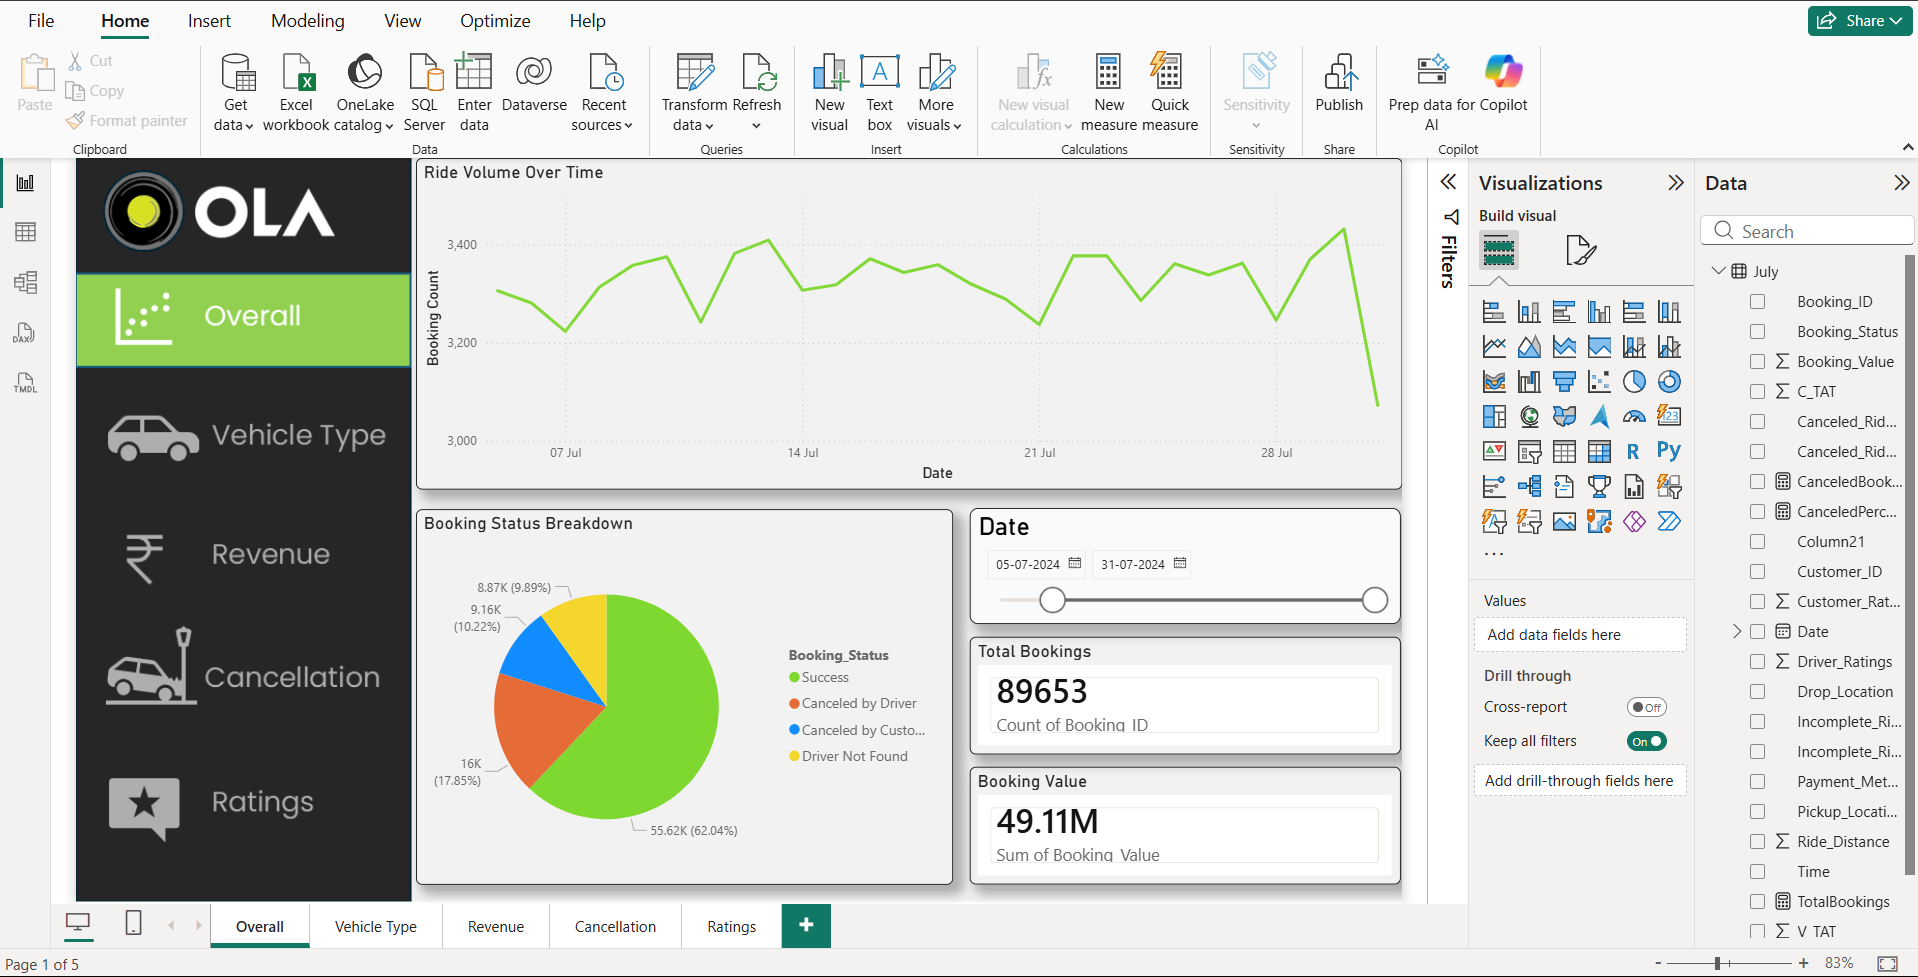

The dashboard page shown, as its layout file describes it:
{"tool":"powerbi","page":{"name":"Overall","canvas":[1280,720],"ordinal":0},"visuals":[{"type":"actionButton","box":[0,225.6,328.2,92.9],"z":0},{"type":"actionButton","box":[0,337.8,328.2,85.7],"z":1000},{"type":"actionButton","box":[0,444,328.2,94.1],"z":2000},{"type":"actionButton","box":[0,581.5,319.7,79.6],"z":3000},{"type":"actionButton","box":[0,114.6,328.2,83.2],"z":4000},{"type":"lineChart","title":"Ride Volume Over Time","fields":{"Y":["CountNonNull(July.Booking_ID)"],"Category":["July.Date"]},"box":[328,0,952.3,319.7],"z":5000},{"type":"pieChart","title":"Booking Status Breakdown","fields":{"Category":["July.Booking_Status"],"Y":["CountNonNull(July.Booking_Status)"]},"box":[328,338.9,518.7,362.3],"z":6000},{"type":"slicer","title":"Date","fields":{"Values":["July.Date"]},"box":[862.6,337.8,416.2,112.2],"z":7000},{"type":"cardVisual","title":"Total Bookings","fields":{"Data":["Count(July.Booking_ID)"]},"box":[863.1,462.4,415.8,113.9],"z":8000},{"type":"cardVisual","title":"Booking Value","fields":{"Data":["Sum(July.Booking_Value)"]},"box":[863.1,587.3,415.8,113.9],"z":9000}]}

Visuals, with their boxes on the page's 1280x720 design canvas (x1, y1, x2, y2). These are canvas units, not pixel positions in the 1918x977 screenshot, which may show the page scaled, cropped or inside an application window:
actionButton: [left=0, top=226, right=328, bottom=318]
actionButton: [left=0, top=338, right=328, bottom=424]
actionButton: [left=0, top=444, right=328, bottom=538]
actionButton: [left=0, top=582, right=320, bottom=661]
actionButton: [left=0, top=115, right=328, bottom=198]
"Ride Volume Over Time" lineChart: [left=328, top=0, right=1280, bottom=320]
"Booking Status Breakdown" pieChart: [left=328, top=339, right=847, bottom=701]
"Date" slicer: [left=863, top=338, right=1279, bottom=450]
"Total Bookings" cardVisual: [left=863, top=462, right=1279, bottom=576]
"Booking Value" cardVisual: [left=863, top=587, right=1279, bottom=701]
